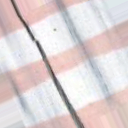crackTip: (8, 1, 86, 128)
